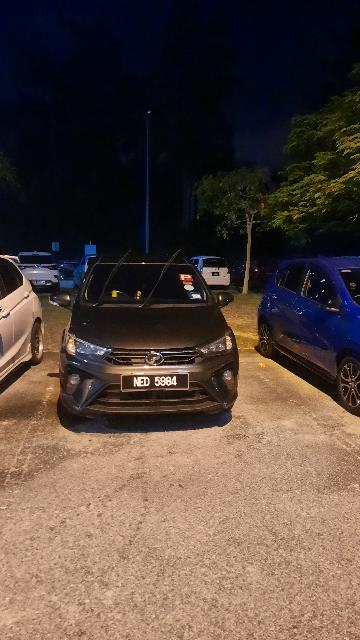License_Plate: (118, 371, 191, 395)
car: (55, 249, 242, 427)
